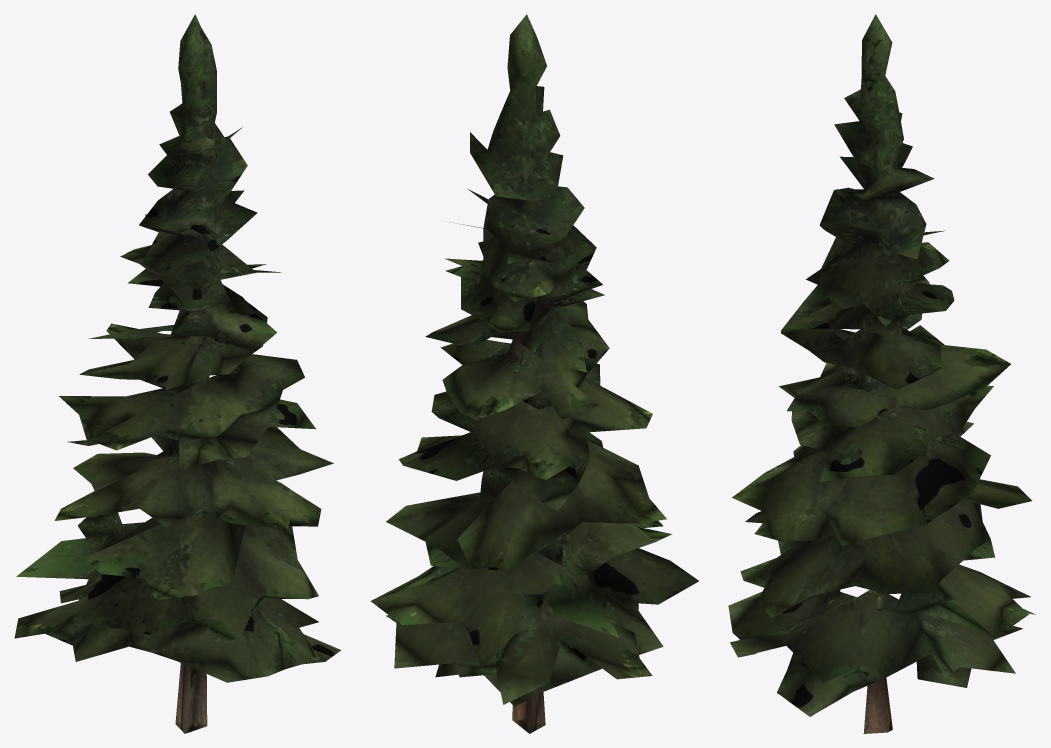
The model's file is tree-fir.glb.
3 renders of one model, left to right at view 1: azimuth 30°, elevation 25°; view 2: azimuth 150°, elevation 25°; view 3: azimuth 270°, elevation 25°, orthographic.
Visible parts, largest first — view 1: Mesh1.0; view 2: Mesh1.0; view 3: Mesh1.0.
Boxes of the visible parts, x1=… form: Mesh1.0: x1=14, y1=14, x2=341, y2=733; Mesh1.0: x1=370, y1=14, x2=698, y2=733; Mesh1.0: x1=728, y1=14, x2=1035, y2=733.
Bounding box in the file's own units: 0.6825 × 1.69 × 0.6536.
1 material, 1 textured.
